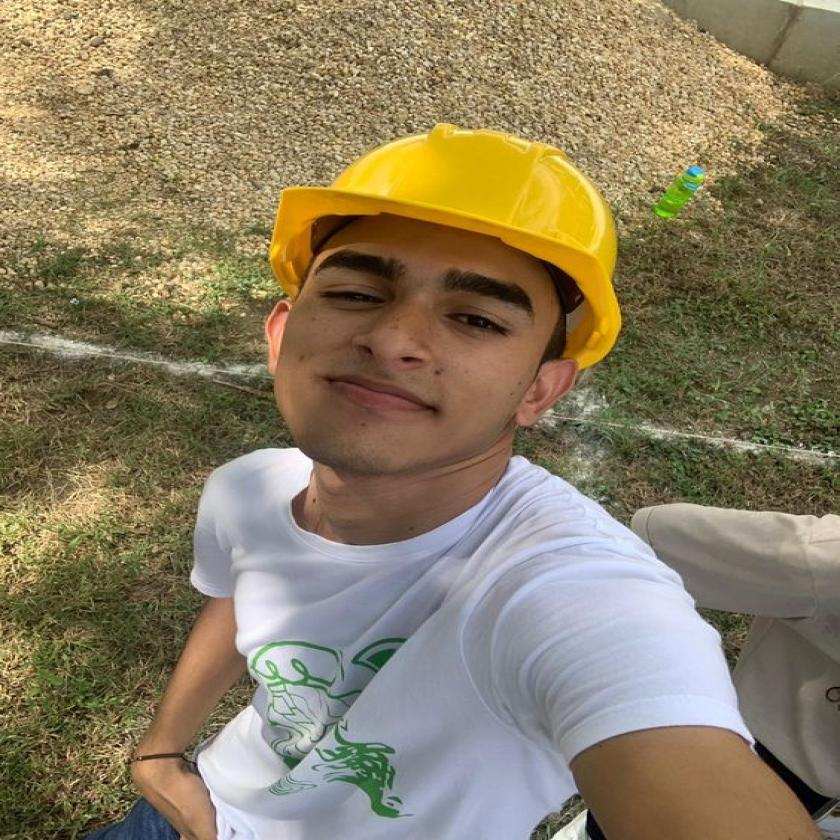Con_casco: (258, 123, 634, 486)
